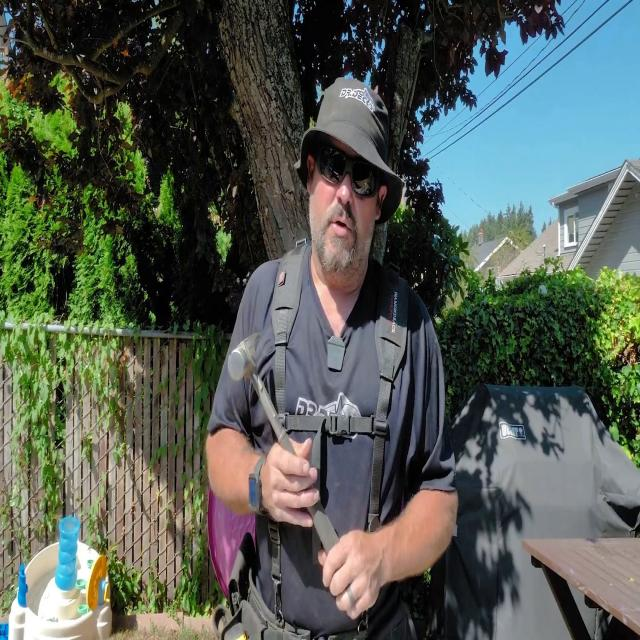hammer: (227, 332, 341, 559)
